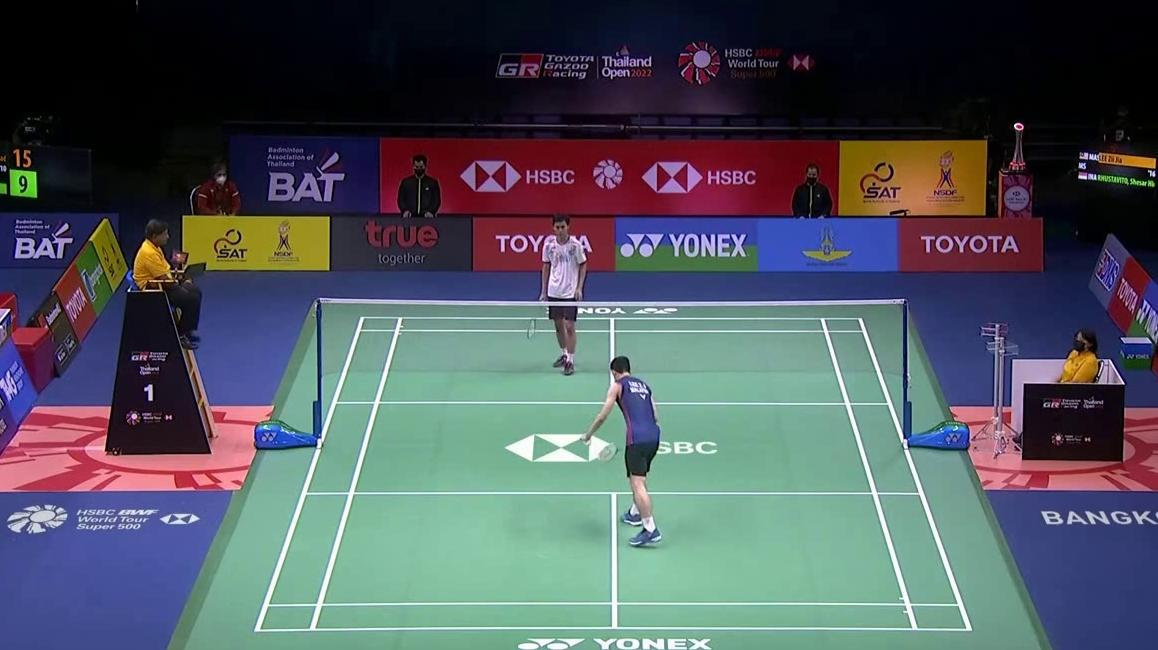racket: (597, 431, 642, 463), (526, 294, 546, 339)
shuttle: (580, 432, 591, 446)
